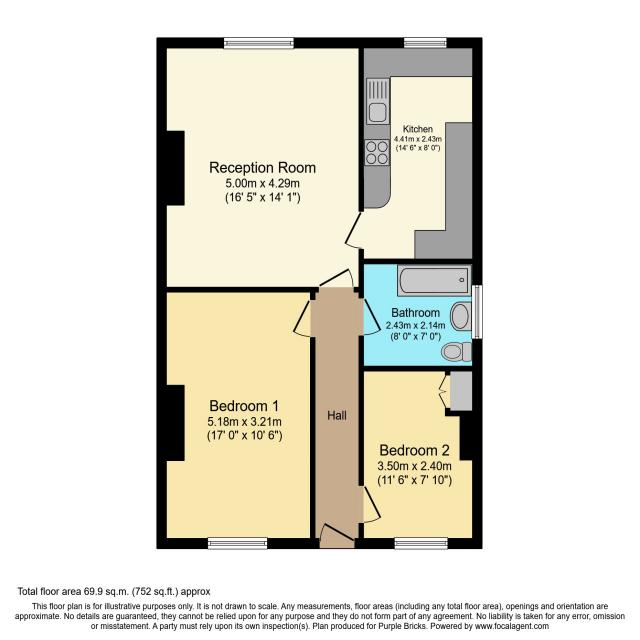DOOR: (319, 521, 357, 550), (358, 297, 383, 337), (317, 267, 355, 293), (291, 299, 316, 338), (358, 485, 383, 524), (344, 211, 365, 250)
ROOM: (157, 37, 365, 294), (156, 286, 316, 549), (342, 37, 483, 264), (358, 366, 483, 549)
WINDOW: (222, 36, 295, 50), (207, 536, 269, 550), (470, 284, 484, 340), (394, 537, 449, 550), (403, 36, 448, 49)
